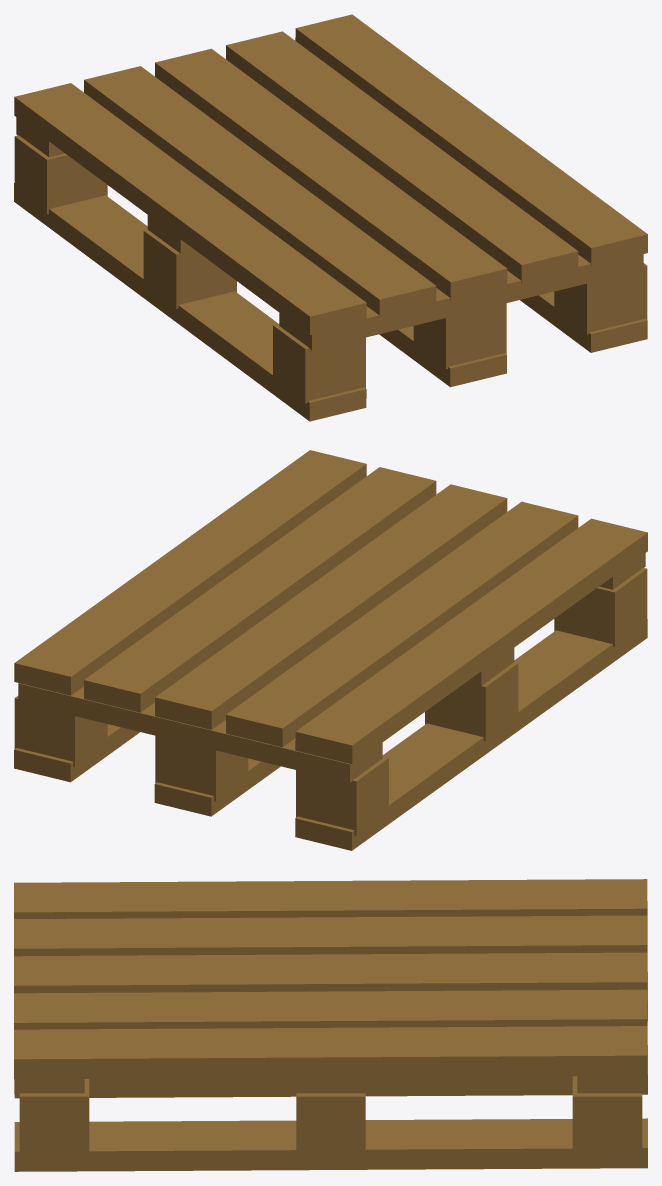
File: Pallet1.glb
3 views of the same model, one above another, from view 1: azimuth 30°, elevation 25°; view 2: azimuth 150°, elevation 25°; view 3: azimuth 270°, elevation 25° (orthographic). The views are drawn at different scales.
Parts seen in each view (by area): view 1: Pallet; view 2: Pallet; view 3: Pallet.
Part boxes in pixels (left/top/right/bottom): Pallet: left=14, top=14, right=647, bottom=421; Pallet: left=14, top=450, right=647, bottom=850; Pallet: left=14, top=879, right=647, bottom=1171.
Size of the model in its own units: 0.6676 by 0.2025 by 1.
